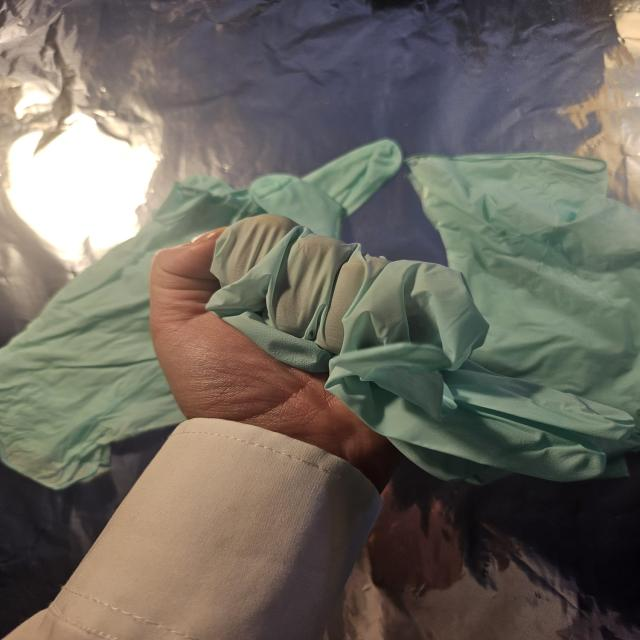glove_partial: (148, 213, 640, 494)
